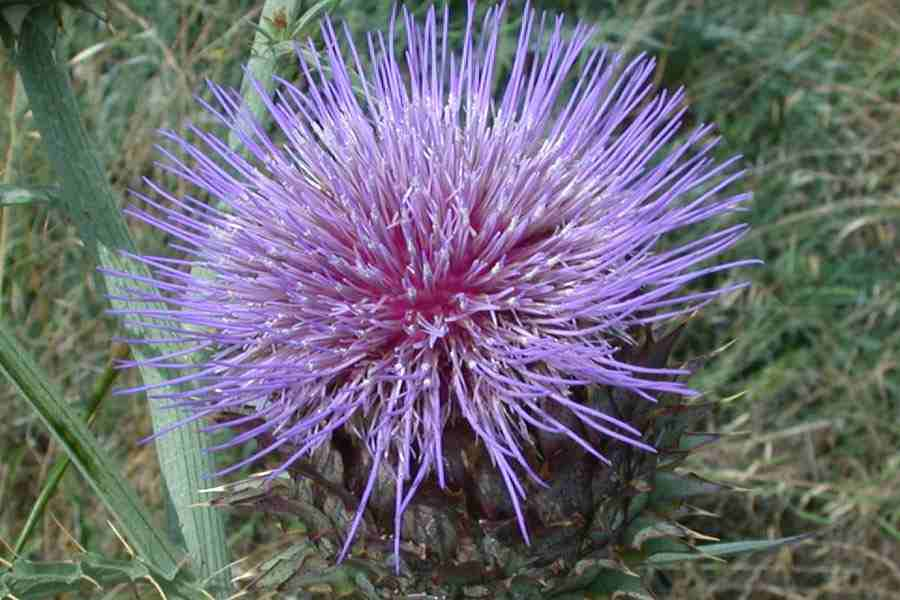thistle: (108, 13, 791, 583)
